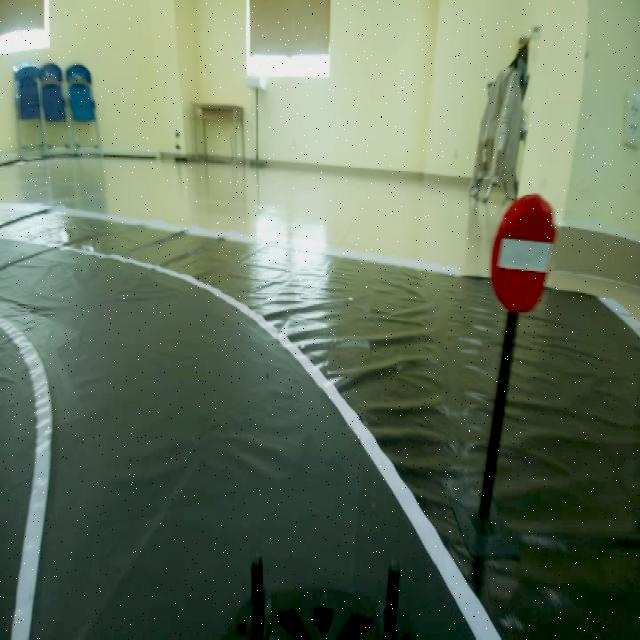no_entry: (492, 173, 562, 307)
